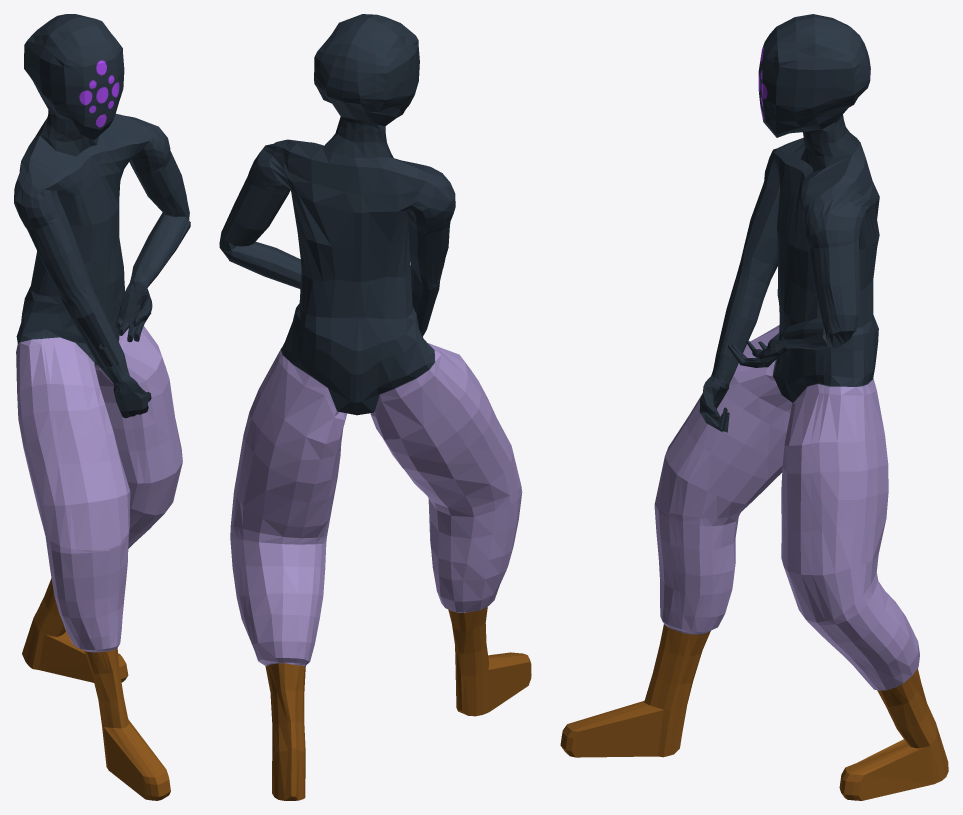
The model's file is Oracle_WF_000013.obj.
The picture shows the model from 3 angles, left to right: view 1: azimuth 30°, elevation 25°; view 2: azimuth 150°, elevation 25°; view 3: azimuth 270°, elevation 25°; orthographic projection. The views are drawn at different scales.
Parts seen in each view (by area): view 1: Cube; view 2: Cube; view 3: Cube.
Part boxes in pixels (<box>): Cube: <box>14,14,190,800</box>; Cube: <box>219,14,531,800</box>; Cube: <box>560,14,948,800</box>.
Size of the model in its own units: 1.17 by 3.75 by 1.76.
